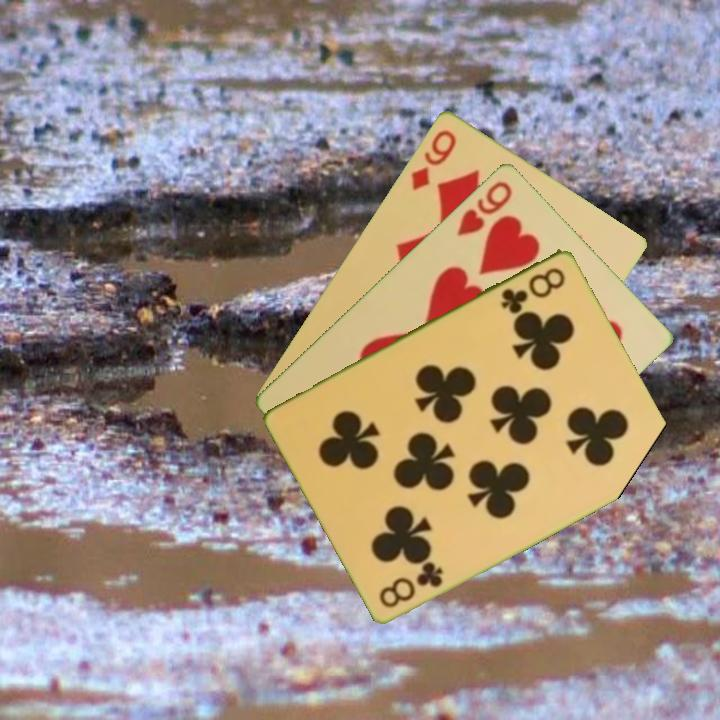8c: (375, 557, 446, 611), (497, 263, 569, 316)
9d: (407, 125, 459, 193)
9h: (453, 176, 516, 239)
